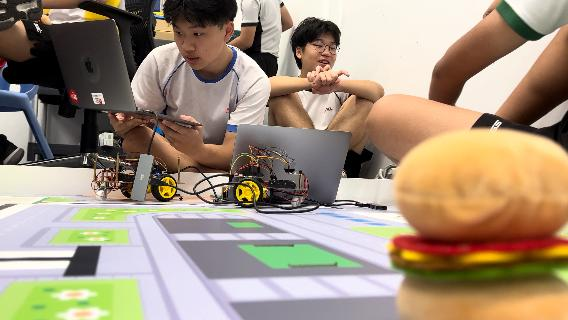burger: (387, 124, 568, 319)
